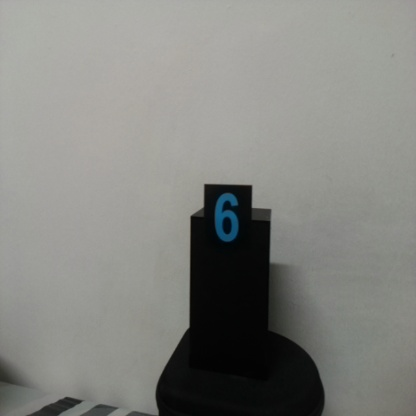id_6: (205, 187, 254, 263)
